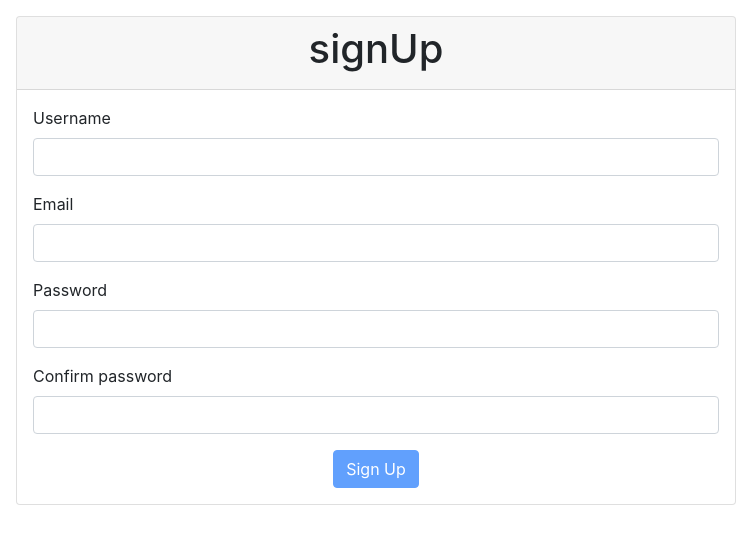
Test: SignUpPageWithTranslation › Interaction › displays Username cannot be null for field
Type "clemgbld" into the field labelled "Username".
click(376, 157); type("clemgbld")  # box top-left (33, 138), bottom-right (719, 176)
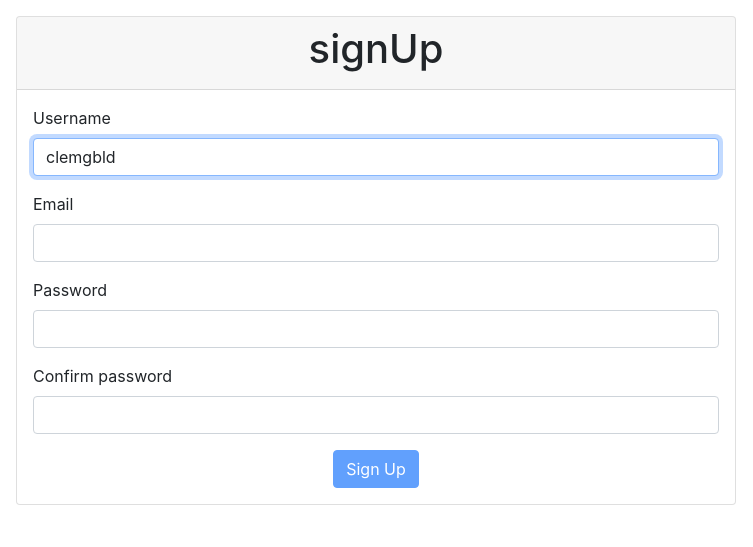
Type "exemple@hotmail.fr" into the field labelled "Email".
click(376, 243); type("exemple@hotmail.fr")  # box top-left (33, 224), bottom-right (719, 262)
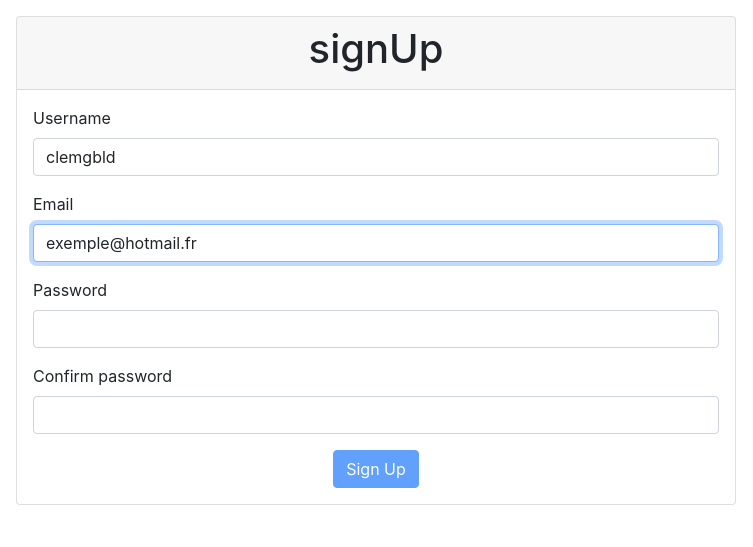
Type "azerty" into the password field labelled "Password".
click(376, 329); type("azerty")  # box top-left (33, 310), bottom-right (719, 348)
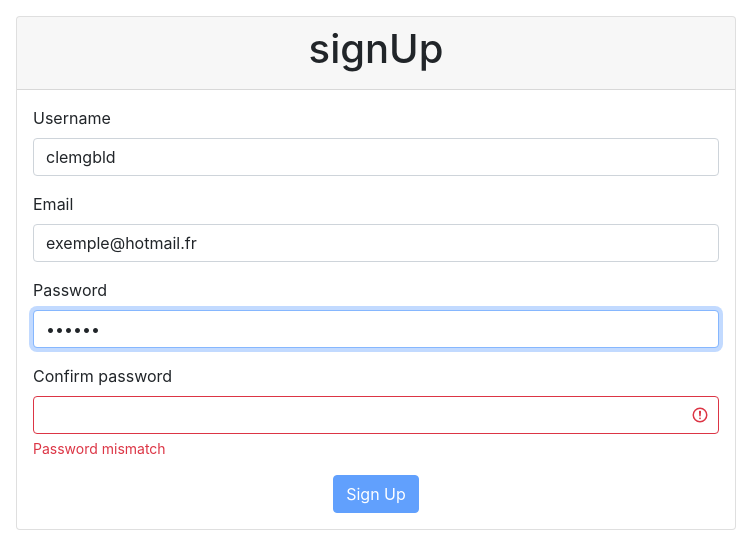
Type "azerty" into the password field labelled "Confirm password".
click(376, 415); type("azerty")  # box top-left (33, 396), bottom-right (719, 434)
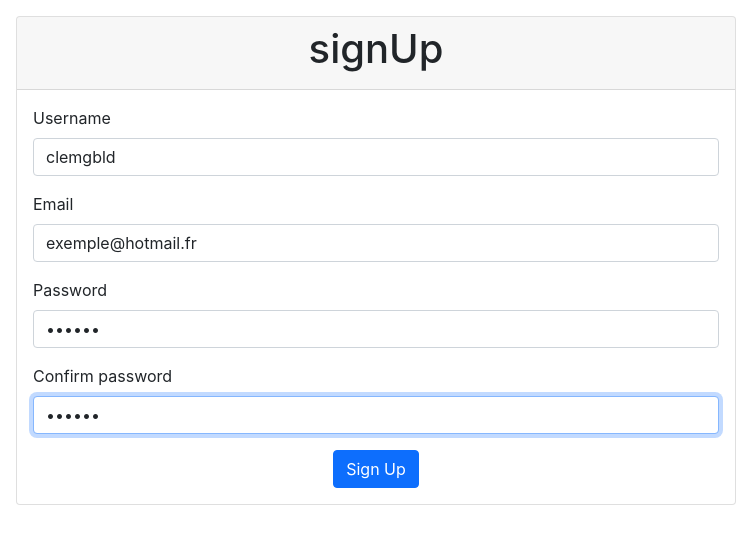
Click the button.
click(376, 469)  # box top-left (333, 450), bottom-right (419, 488)
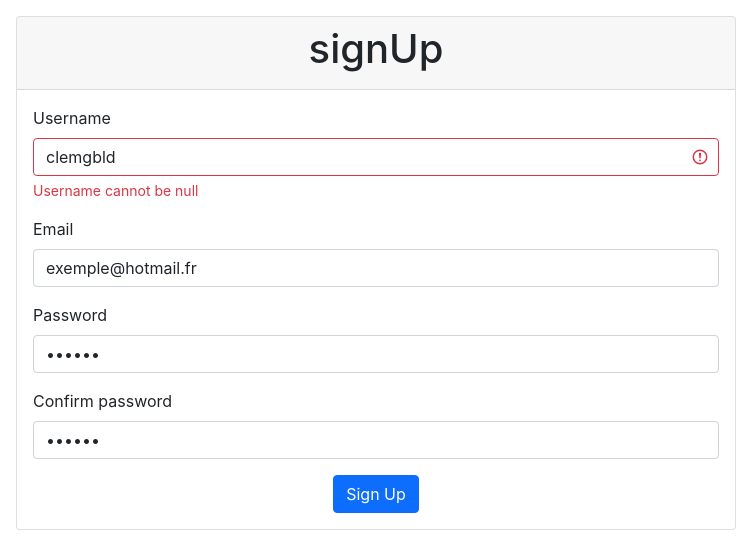
Check: the text "Username cannot be null" is shown, box top-left (33, 182), bottom-right (198, 199)
